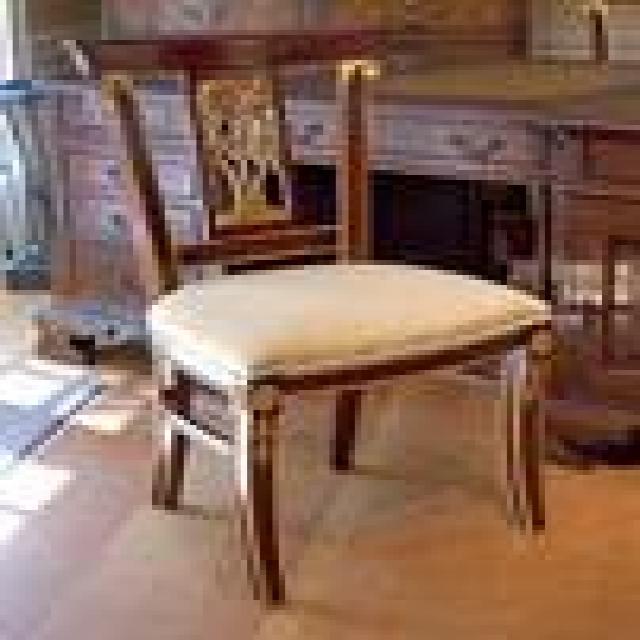chair: (52, 27, 556, 619)
